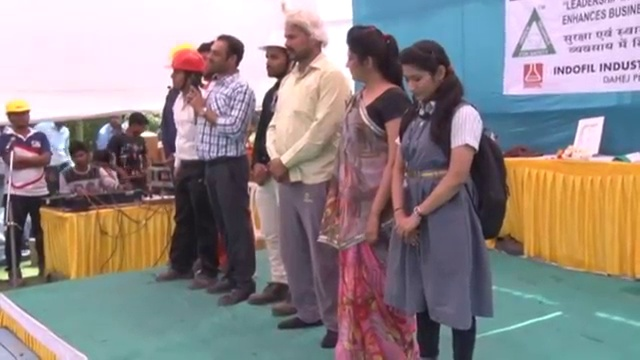helmet: (163, 48, 206, 75), (255, 29, 290, 55), (5, 99, 32, 117)
helmet_off: (396, 36, 456, 113), (340, 25, 397, 91), (276, 7, 329, 62), (203, 34, 243, 82), (67, 139, 95, 172), (122, 112, 146, 141), (102, 119, 119, 135)
helmet_on: (162, 47, 207, 97), (256, 29, 291, 82), (5, 98, 32, 133)
person: (389, 34, 514, 360), (267, 9, 352, 350), (335, 23, 416, 360), (148, 45, 221, 296), (191, 35, 256, 305), (245, 26, 300, 318), (0, 98, 64, 283), (58, 139, 116, 196), (107, 112, 148, 187), (36, 118, 72, 191), (96, 115, 126, 151)
